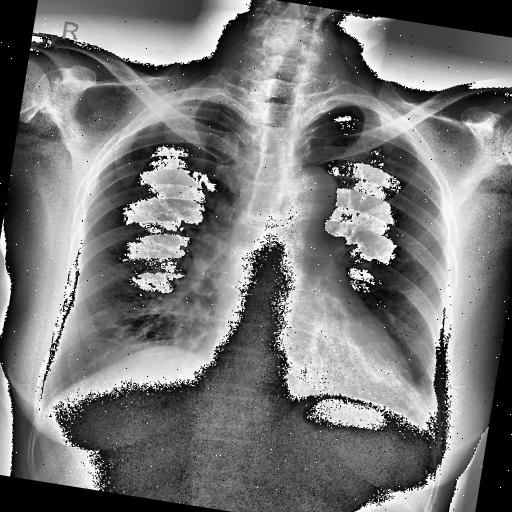0- Aortic enlargement: (274, 161, 340, 219), (292, 164, 342, 218)
3- Cardiomegaly: (206, 298, 431, 416), (202, 312, 421, 414), (202, 320, 426, 416)
